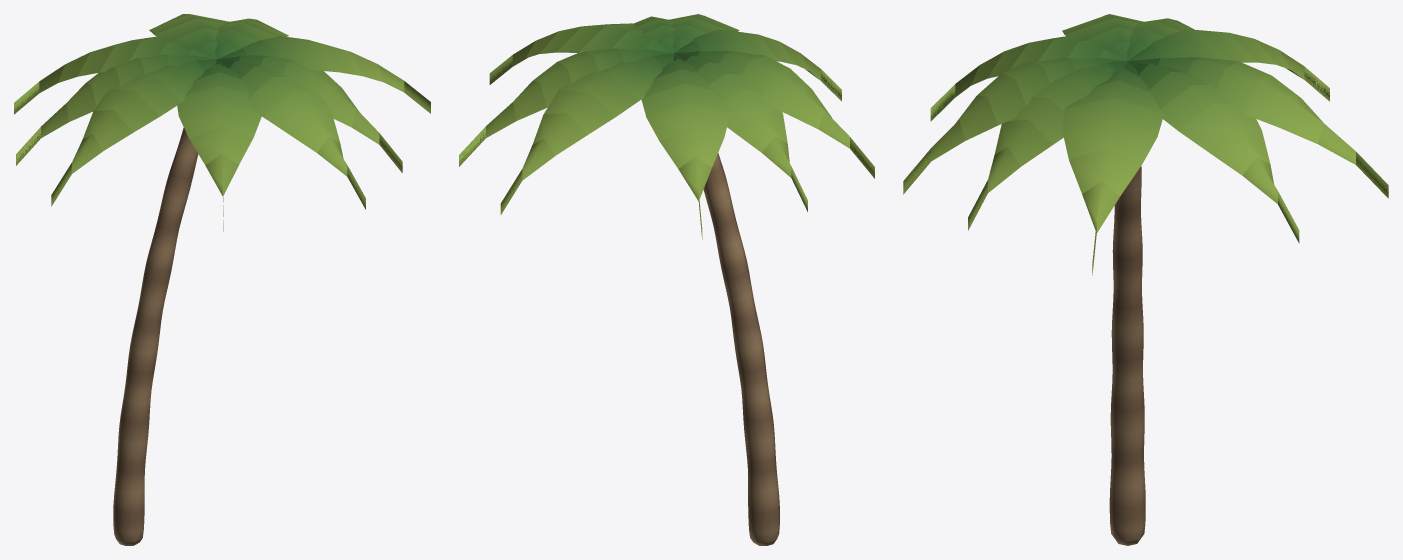
Rendered from Palm.glb.
3 views of the same model, side by side, from view 1: azimuth 30°, elevation 25°; view 2: azimuth 150°, elevation 25°; view 3: azimuth 270°, elevation 25° (orthographic). The views are drawn at different scales.
Parts seen in each view (by area): view 1: Palm; view 2: Palm; view 3: Palm.
Boxes of the visible parts, x1,y1,x2,y2 form: Palm: (14, 14, 430, 545); Palm: (459, 14, 874, 545); Palm: (903, 14, 1388, 545).
Bounding box in the file's own units: 5.99 × 7.09 × 5.77.
